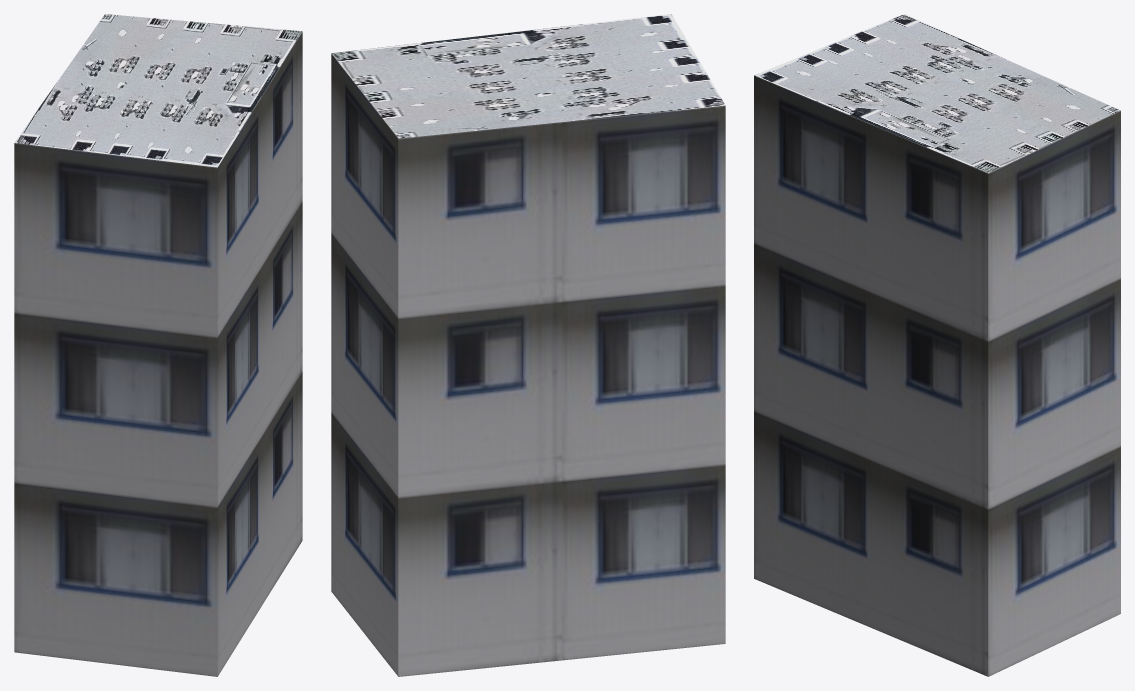
Rendered from ResTex__3425.fbx.
The picture shows the model from 3 angles, left to right: view 1: azimuth 30°, elevation 25°; view 2: azimuth 150°, elevation 25°; view 3: azimuth 270°, elevation 25°; orthographic projection. The views are drawn at different scales.
Visible parts, largest first — view 1: CityEngineMaterial_9_m, CityEngineMaterial_4_m; view 2: CityEngineMaterial_9_m, CityEngineMaterial_4_m; view 3: CityEngineMaterial_9_m, CityEngineMaterial_4_m.
Part boxes in pixels (bbox=[...]): CityEngineMaterial_9_m: bbox=[14, 31, 302, 676]; CityEngineMaterial_4_m: bbox=[14, 14, 302, 167]; CityEngineMaterial_9_m: bbox=[331, 53, 725, 676]; CityEngineMaterial_4_m: bbox=[331, 14, 725, 138]; CityEngineMaterial_9_m: bbox=[754, 75, 1120, 676]; CityEngineMaterial_4_m: bbox=[754, 14, 1120, 173].
Size of the model in its own units: 6.12 by 9 by 5.94.
2 materials, 2 textured.
